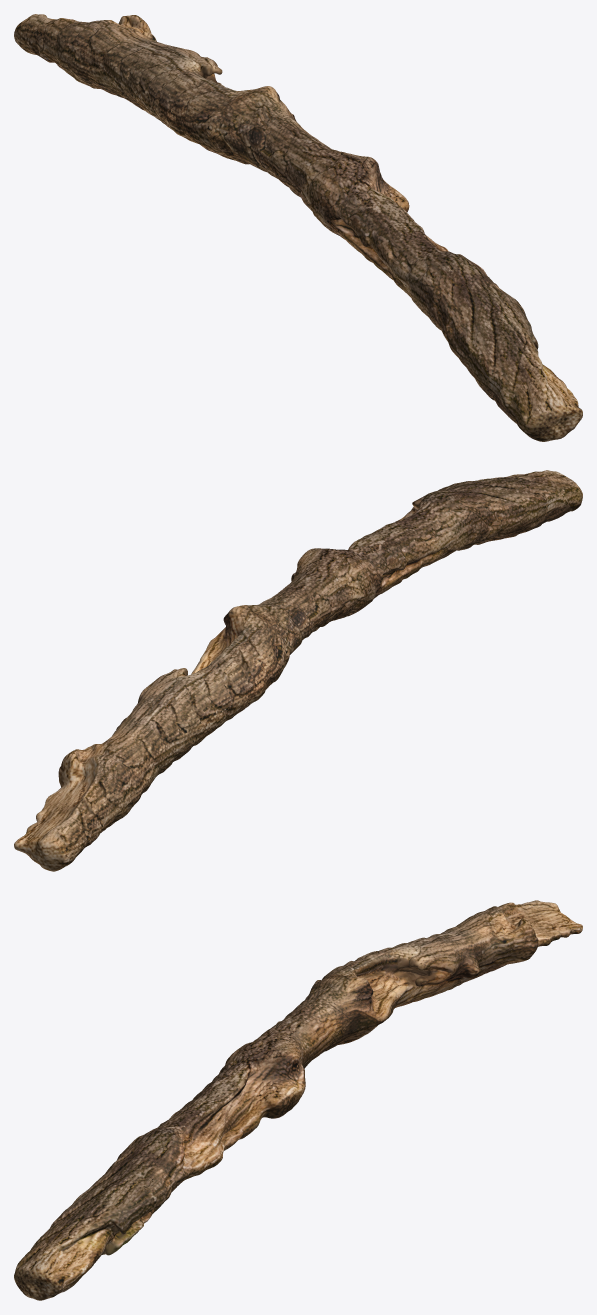
File: bow.glb
3 views of the same model, one above another, from view 1: azimuth 30°, elevation 25°; view 2: azimuth 150°, elevation 25°; view 3: azimuth 330°, elevation 25° (orthographic). The views are drawn at different scales.
Visible parts, largest first — view 1: tripo_node_6e4fcabb-72a5-4b17-a769-fbe9de464c5b; view 2: tripo_node_6e4fcabb-72a5-4b17-a769-fbe9de464c5b; view 3: tripo_node_6e4fcabb-72a5-4b17-a769-fbe9de464c5b.
Part boxes in pixels (bbox=[...]): tripo_node_6e4fcabb-72a5-4b17-a769-fbe9de464c5b: bbox=[14, 14, 582, 441]; tripo_node_6e4fcabb-72a5-4b17-a769-fbe9de464c5b: bbox=[14, 470, 582, 871]; tripo_node_6e4fcabb-72a5-4b17-a769-fbe9de464c5b: bbox=[14, 900, 582, 1300].
Size of the model in its own units: 0.1029 by 0.1205 by 0.9999.
Materials: 1 (1 with a texture image).
